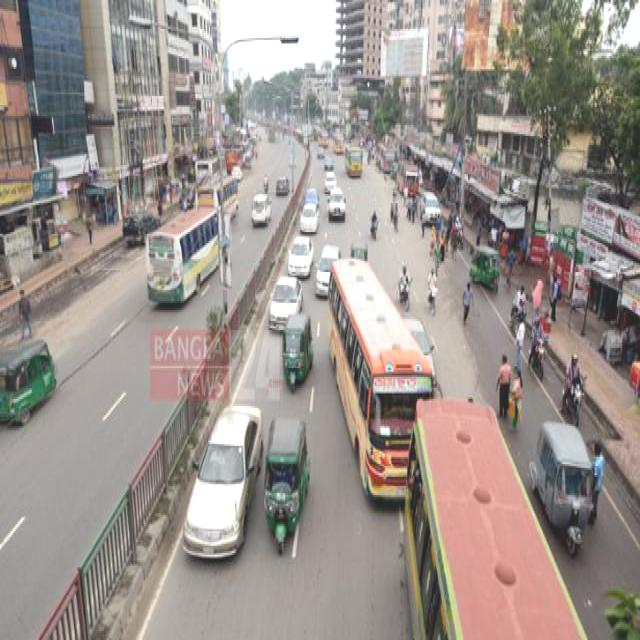BUS: (409, 402, 605, 640), (320, 265, 435, 510), (146, 205, 226, 306), (345, 148, 365, 180)
